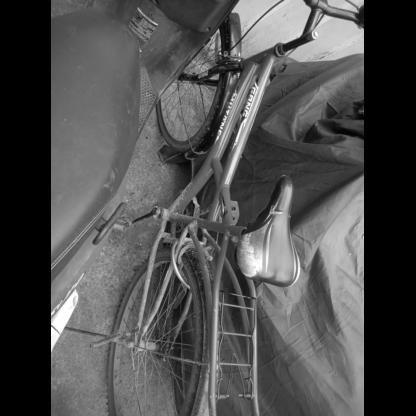Bicycle: (73, 0, 355, 416)
